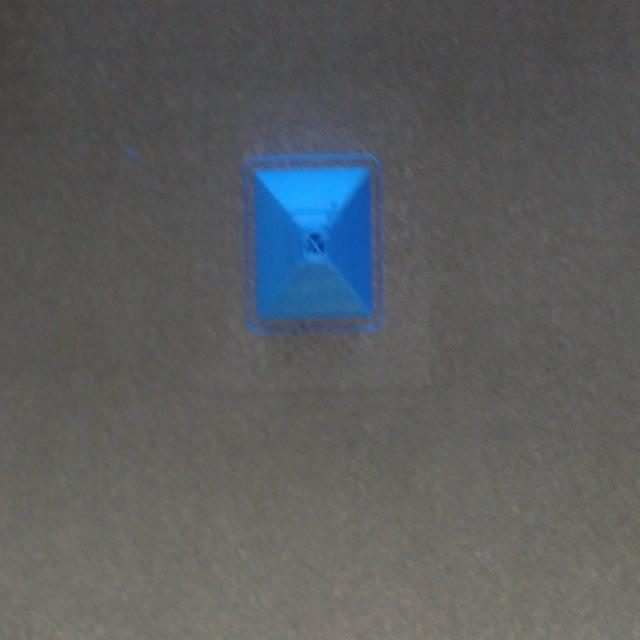mistake: (303, 232, 328, 260)
